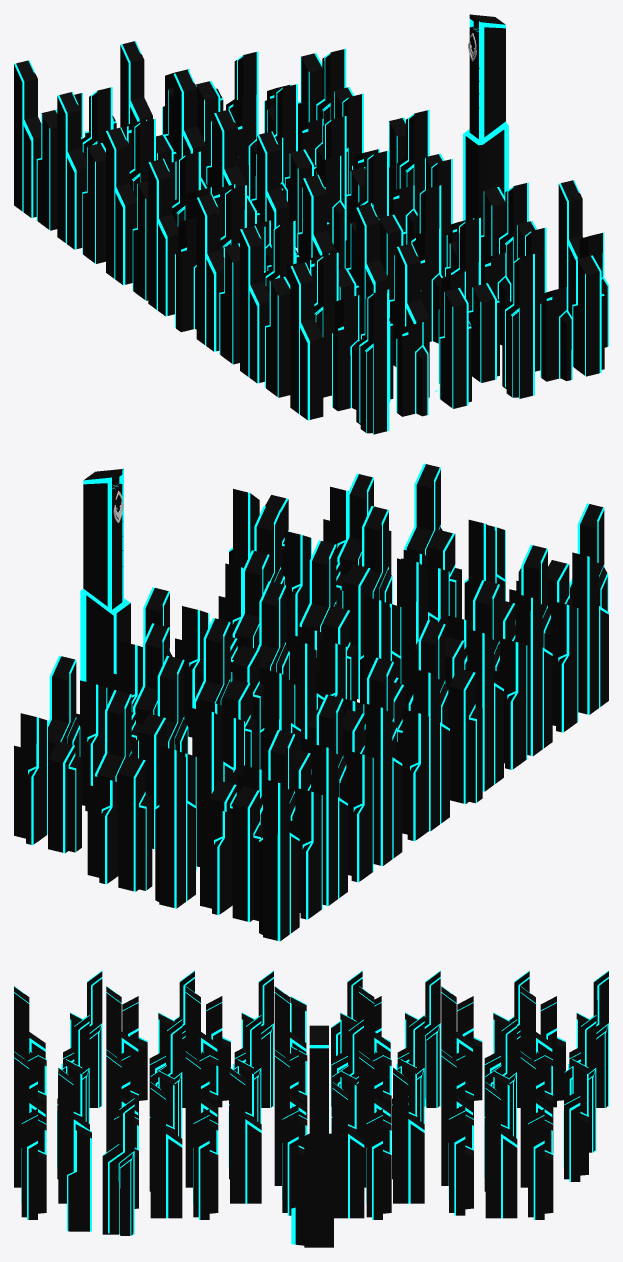
The model's file is tron_inspired_vr_playground4.glb.
3 views of the same model, one above another, from view 1: azimuth 30°, elevation 25°; view 2: azimuth 150°, elevation 25°; view 3: azimuth 270°, elevation 25° (orthographic). The views are drawn at different scales.
Parts seen in each view (by area): view 1: Cube.144, Cube.145, Cube.027, Cube.038, Cube.158, Cube.148, Cube.155, Cube.147, Cube.151, Cube.152, Cube.029, Cube.036 (+51 smaller); view 2: Cube.144, Cube.078, Cube.152, Cube.145, Cube.158, Cube.081, Cube.149, Cube.082, Cube.147, Cube.155, Cube.151, Cube.157 (+58 smaller); view 3: Cube.144, Cube.159, Cube.044, Cube.055, Cube.066, Cube.019, Cube.006, Cube.082, Cube.016, Cube.036, Cube.063, Cube.058 (+56 smaller).
Boxes of the visible parts, x1=… form: Cube.144: x1=463, y1=14, x2=508, y2=235; Cube.145: x1=290, y1=262, x2=323, y2=420; Cube.027: x1=356, y1=289, x2=389, y2=434; Cube.038: x1=502, y1=254, x2=534, y2=398; Cube.158: x1=106, y1=127, x2=137, y2=285; Cube.148: x1=148, y1=158, x2=178, y2=316; Cube.155: x1=57, y1=92, x2=86, y2=249; Cube.147: x1=240, y1=225, x2=269, y2=383; Cube.151: x1=196, y1=194, x2=224, y2=351; Cube.152: x1=14, y1=60, x2=41, y2=217; Cube.029: x1=439, y1=287, x2=471, y2=408; Cube.036: x1=572, y1=255, x2=604, y2=376; Cube.144: x1=80, y1=468, x2=130, y2=704; Cube.078: x1=155, y1=746, x2=195, y2=908; Cube.152: x1=259, y1=779, x2=299, y2=941; Cube.145: x1=572, y1=552, x2=608, y2=714; Cube.158: x1=365, y1=704, x2=402, y2=866; Cube.081: x1=118, y1=756, x2=152, y2=891; Cube.149: x1=448, y1=668, x2=482, y2=803; Cube.082: x1=14, y1=713, x2=47, y2=845; Cube.147: x1=515, y1=594, x2=552, y2=756; Cube.155: x1=311, y1=743, x2=347, y2=905; Cube.151: x1=467, y1=629, x2=503, y2=791; Cube.157: x1=396, y1=709, x2=429, y2=841; Cube.144: x1=291, y1=1025, x2=333, y2=1247; Cube.159: x1=102, y1=1098, x2=134, y2=1235; Cube.044: x1=150, y1=1082, x2=182, y2=1218; Cube.055: x1=485, y1=1082, x2=517, y2=1218; Cube.066: x1=393, y1=1067, x2=424, y2=1203; Cube.019: x1=230, y1=1067, x2=261, y2=1203; Cube.006: x1=332, y1=1082, x2=364, y2=1218; Cube.082: x1=528, y1=1109, x2=553, y2=1219; Cube.016: x1=193, y1=1109, x2=218, y2=1219; Cube.036: x1=21, y1=1109, x2=46, y2=1219; Cube.063: x1=366, y1=1109, x2=391, y2=1219; Cube.058: x1=449, y1=1104, x2=473, y2=1215.
Bounding box in the file's own units: 187 × 122 × 313.
